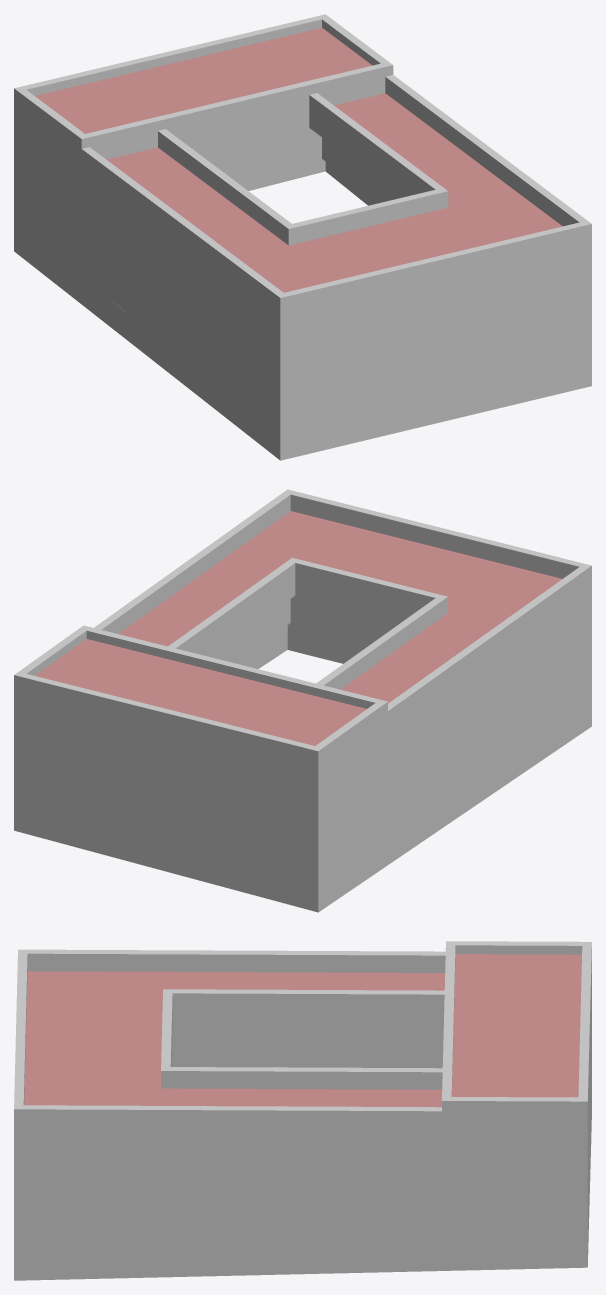
The model's file is LOD_Block_2_85.glb.
3 renders of one model, top to bottom at view 1: azimuth 30°, elevation 25°; view 2: azimuth 150°, elevation 25°; view 3: azimuth 270°, elevation 25°, orthographic. The views are drawn at different scales.
Parts seen in each view (by area): view 1: mesh_CityEngineMaterial_1264; view 2: mesh_CityEngineMaterial_1264; view 3: mesh_CityEngineMaterial_1264.
Part boxes in pixels (x1=…): mesh_CityEngineMaterial_1264: x1=14, y1=14, x2=591, y2=460; mesh_CityEngineMaterial_1264: x1=14, y1=489, x2=591, y2=912; mesh_CityEngineMaterial_1264: x1=14, y1=941, x2=591, y2=1280.
Bounding box in the file's own units: 19.99 × 10.47 × 30.08.
